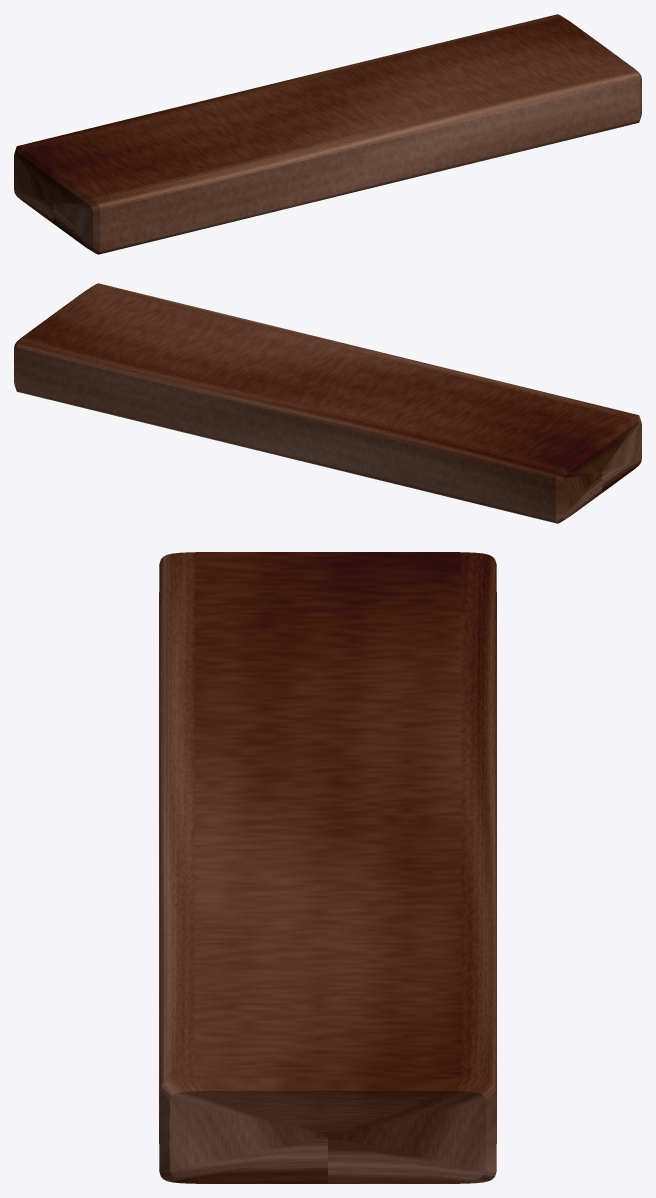
The model's file is wood.obj.
3 views of the same model, one above another, from view 1: azimuth 30°, elevation 25°; view 2: azimuth 150°, elevation 25°; view 3: azimuth 270°, elevation 25° (orthographic). The views are drawn at different scales.
Parts seen in each view (by area): view 1: timber; view 2: timber; view 3: timber.
Part boxes in pixels (x1,y1,x2,y2): timber: (14,14,641,254); timber: (14,283,641,523); timber: (159,552,496,1183).
Size of the model in its own units: 111 by 10.18 by 29.6.
1 material, 1 textured.
